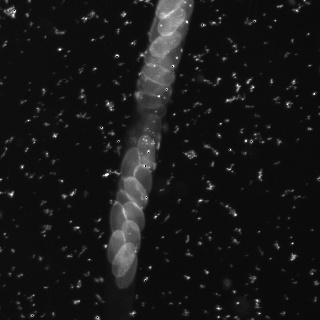embryo: (112, 244, 136, 276), (151, 31, 181, 56), (124, 177, 147, 208), (143, 62, 174, 85), (159, 7, 185, 34), (118, 190, 141, 219), (160, 43, 183, 72), (117, 256, 137, 288), (122, 202, 144, 231), (108, 230, 126, 265), (110, 202, 128, 237), (122, 221, 141, 254), (122, 147, 141, 180), (138, 135, 156, 169), (136, 90, 165, 110), (138, 75, 165, 96), (134, 165, 152, 195), (144, 116, 162, 146), (149, 12, 167, 42), (151, 84, 172, 108), (170, 20, 189, 44), (143, 46, 164, 67), (139, 102, 166, 118)
